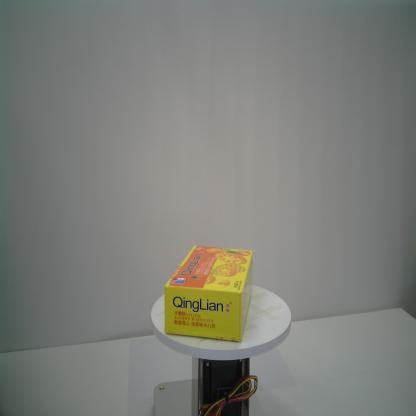Dessert: (164, 245, 254, 341)
